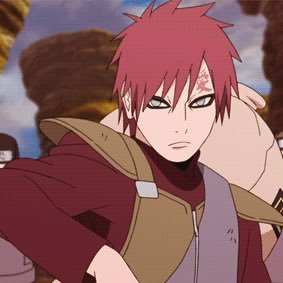gaara: (119, 51, 224, 165)
